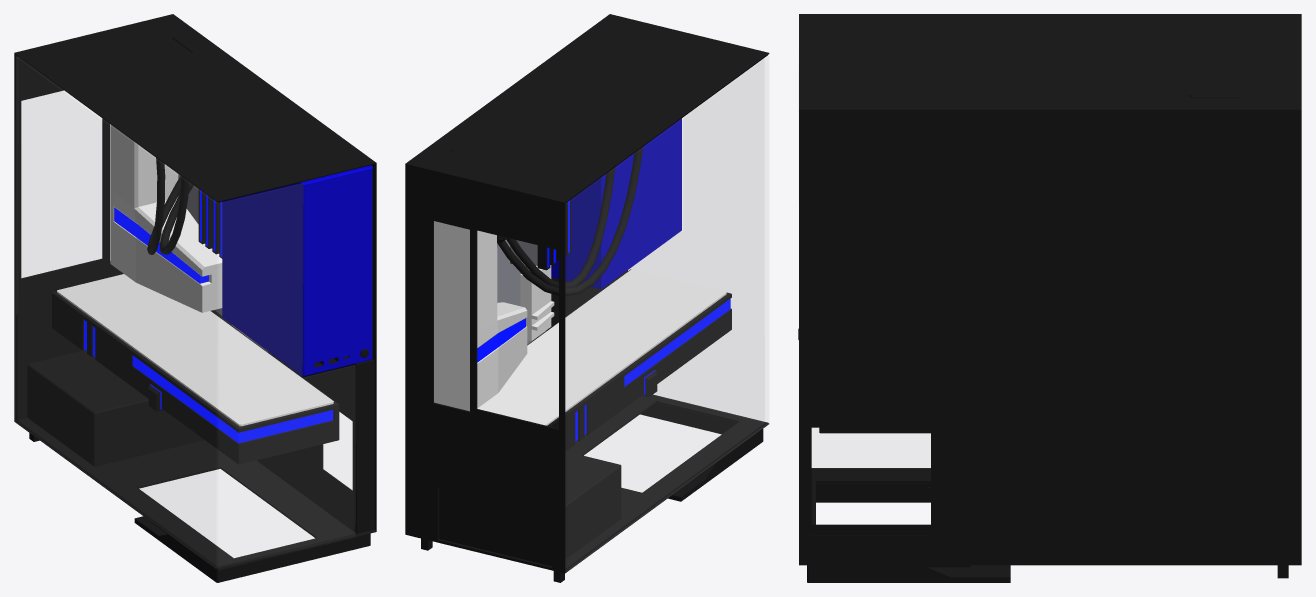
The picture shows the model from 3 angles, left to right: view 1: azimuth 30°, elevation 25°; view 2: azimuth 150°, elevation 25°; view 3: azimuth 270°, elevation 25°; orthographic projection. The views are drawn at different scales.
Parts seen in each view (by area): view 1: sm_pc; view 2: sm_pc; view 3: sm_pc.
Boxes of the visible parts, <box> form: sm_pc: <box>14,14,376,582</box>; sm_pc: <box>405,14,769,582</box>; sm_pc: <box>798,14,1301,582</box>.
Bounding box in the file's own units: 18.31 × 42.22 × 40.47.
